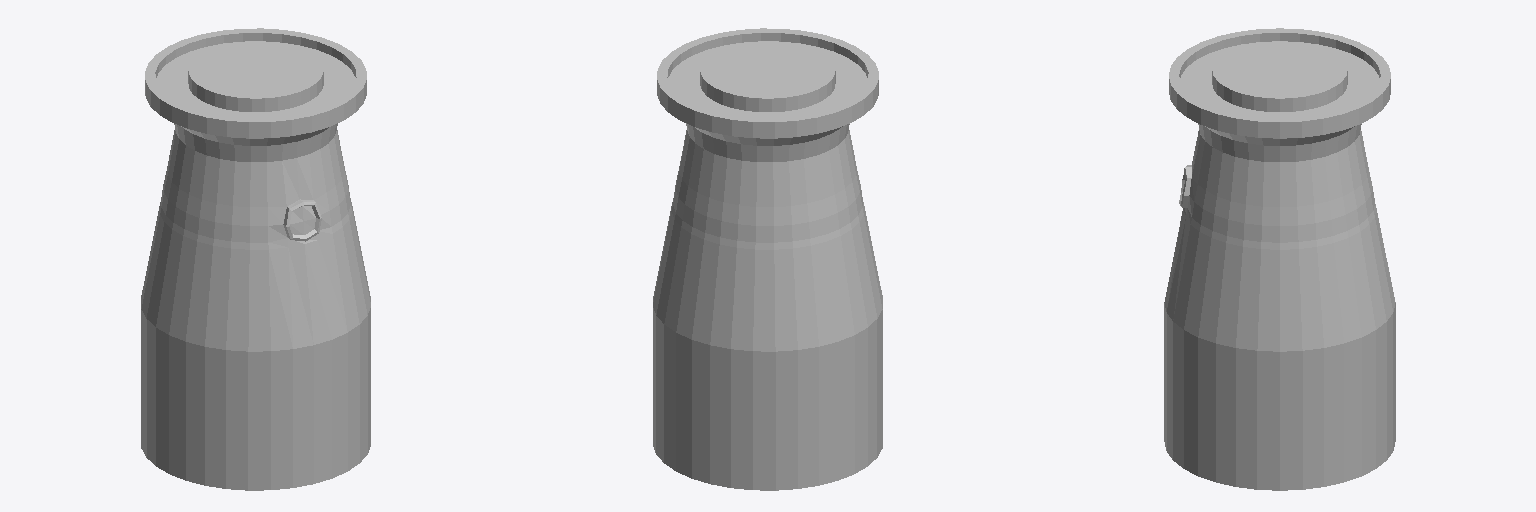
Rendered from tower.obj.
3 views of the same model, side by side, from view 1: azimuth 30°, elevation 25°; view 2: azimuth 150°, elevation 25°; view 3: azimuth 270°, elevation 25° (orthographic).
Visible parts, largest first — view 1: Cylinder.003_Cylinder.005; view 2: Cylinder.003_Cylinder.005; view 3: Cylinder.003_Cylinder.005.
Boxes of the visible parts, box(x1,y1,x2,y2) form: Cylinder.003_Cylinder.005: box(141, 28, 370, 490); Cylinder.003_Cylinder.005: box(653, 28, 882, 490); Cylinder.003_Cylinder.005: box(1164, 28, 1395, 490).
Size of the model in its own units: 1.86 by 3.31 by 1.86.